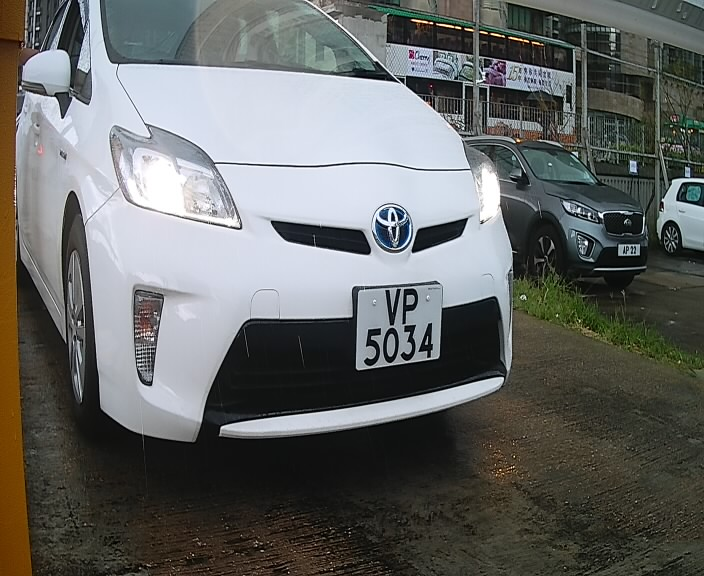Car: (26, 2, 547, 473)
License Plate: (343, 275, 456, 379)
